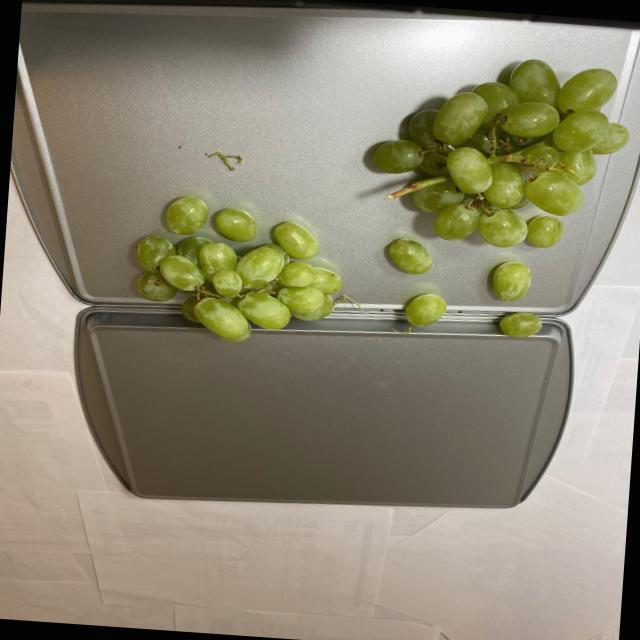grapes: (358, 46, 630, 353), (122, 190, 354, 348)
